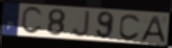8: (47, 8, 67, 37)
9: (95, 10, 116, 41)
A: (139, 15, 167, 43)
C: (20, 6, 44, 36), (118, 13, 142, 41)
J: (71, 10, 91, 38)
